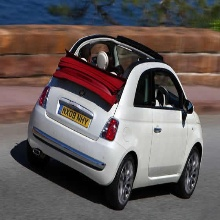no damage: (26, 34, 204, 209)
